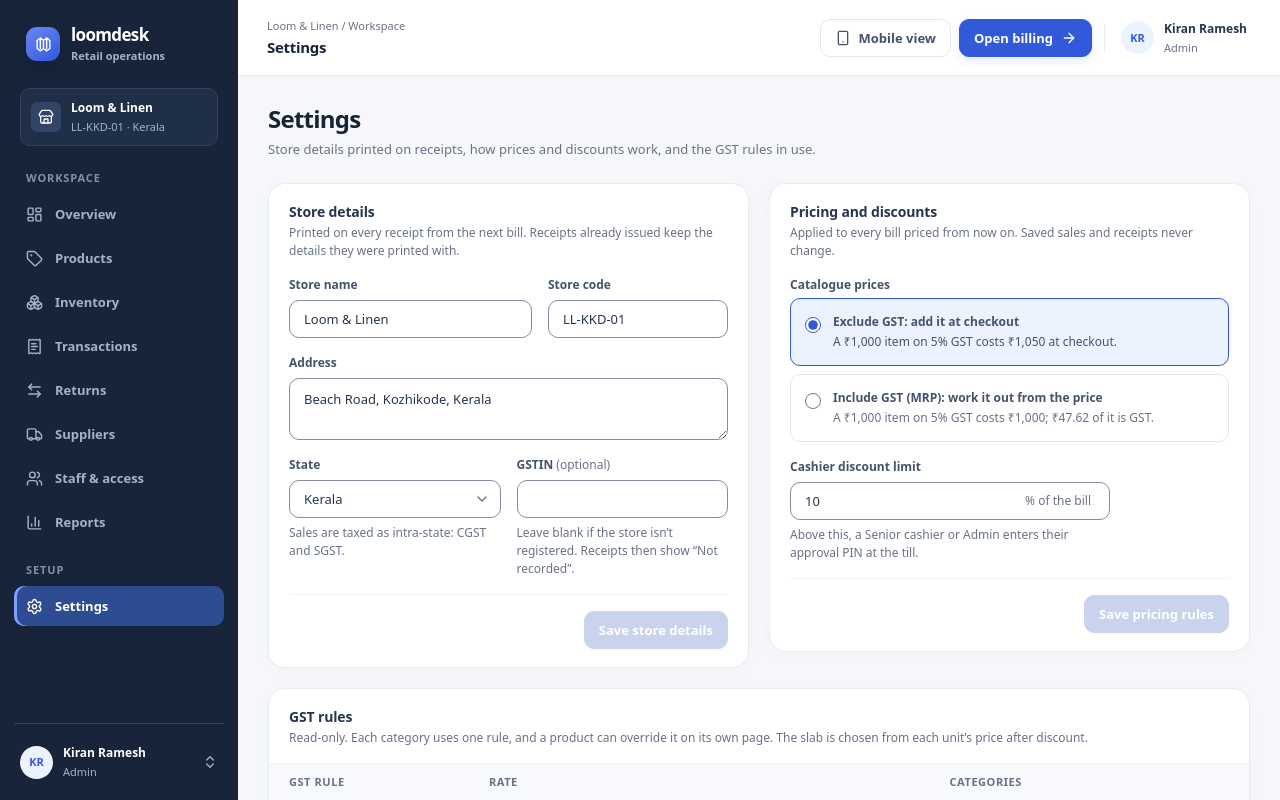
it: settings › confirms before switching how prices are read
Expected: the field labelled "Store name" is shown, [290,301,531,337]
What coordinates should you click on to do the following:
click the radio button labelled "Include GST"
I would click on:
 (813, 401)
Its box is [805,393,821,409].
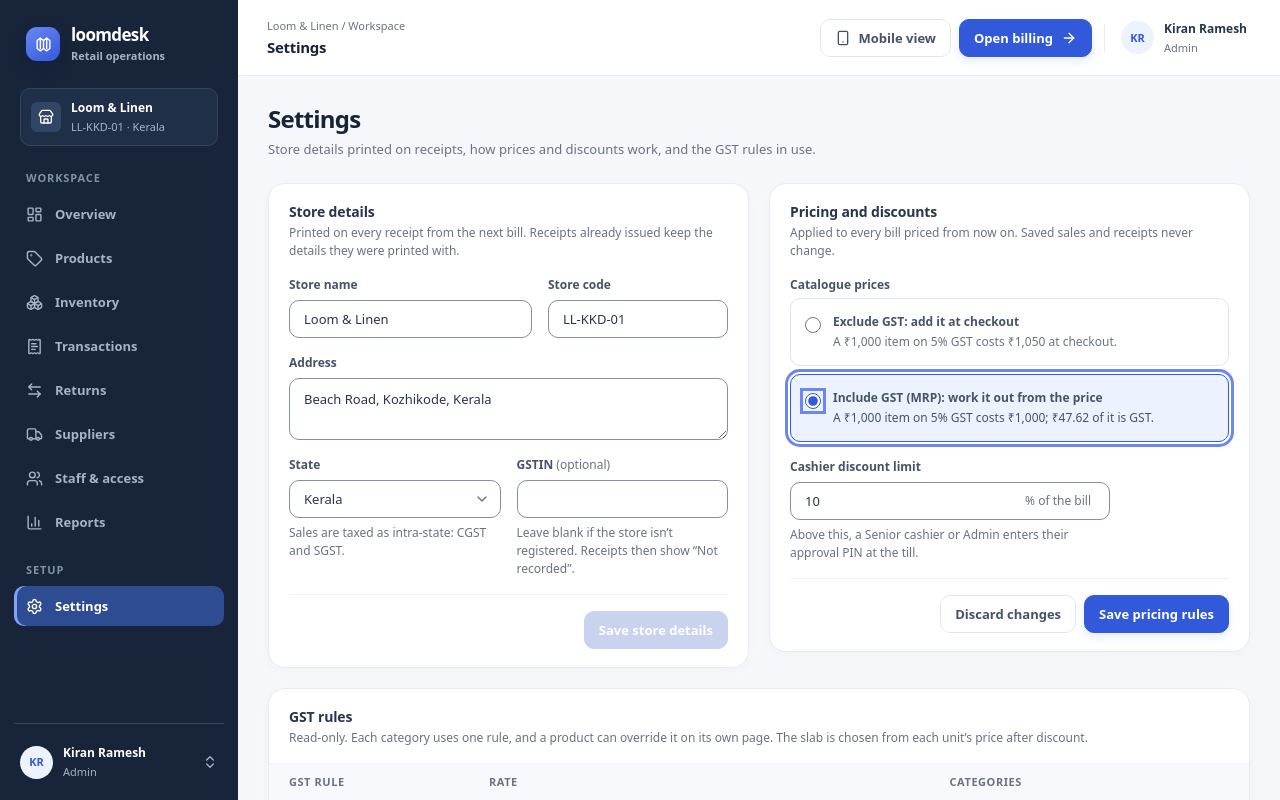
What coordinates should you click on to do the following:
click the button "Save pricing rules"
I would click on:
 (1157, 614)
Its box is [1084,595,1229,633].
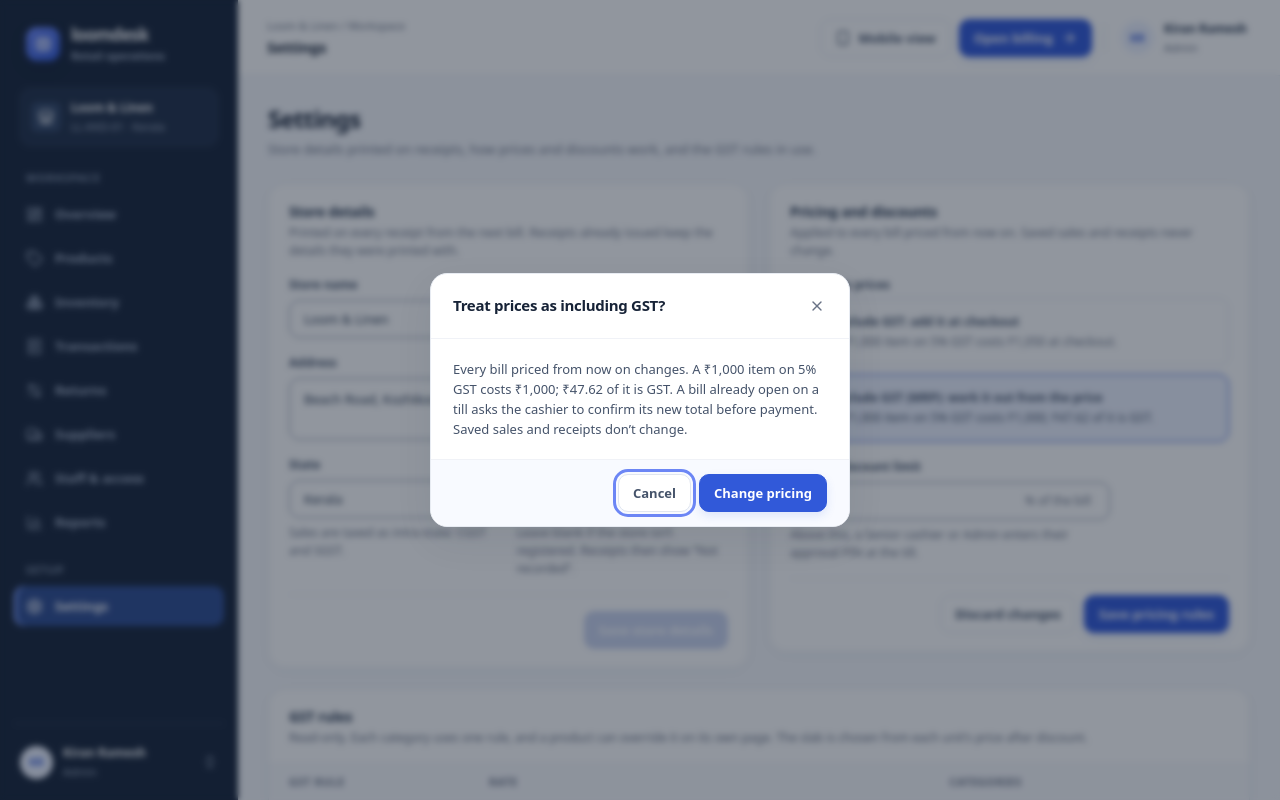
Now the text "asks the cashier to confirm its new total" is shown, box [453,380,819,438]
What coordinates should you click on to do the following:
click the button "Change pricing"
I would click on:
 (763, 493)
Its box is [699,474,827,512].
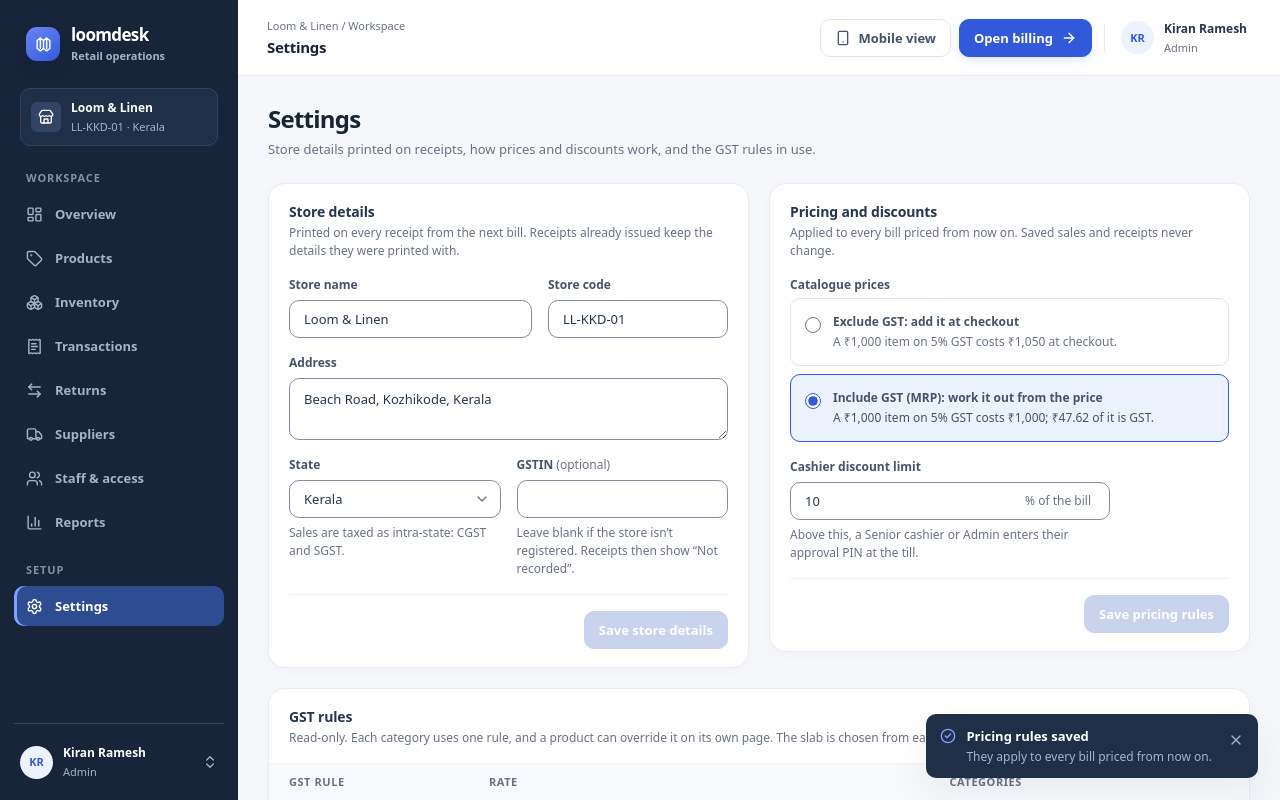
Now the radio button labelled "Include GST" is checked, box [805,393,821,409]
Now the dialog is gone
